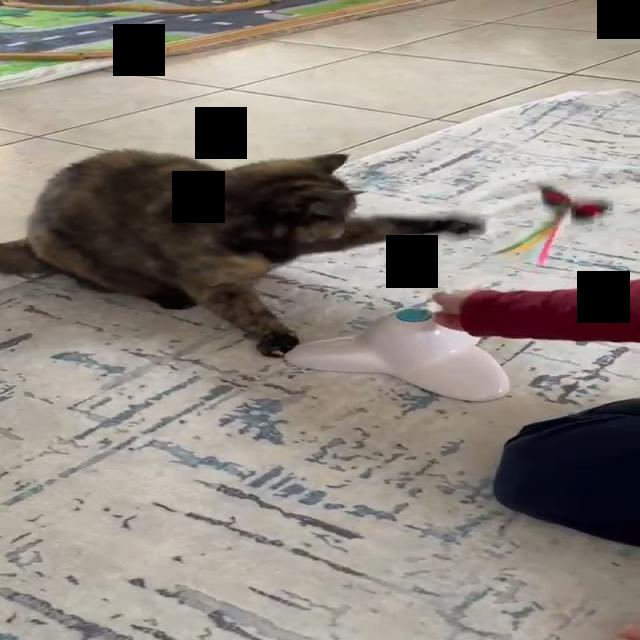authorized: (0, 147, 485, 358)
